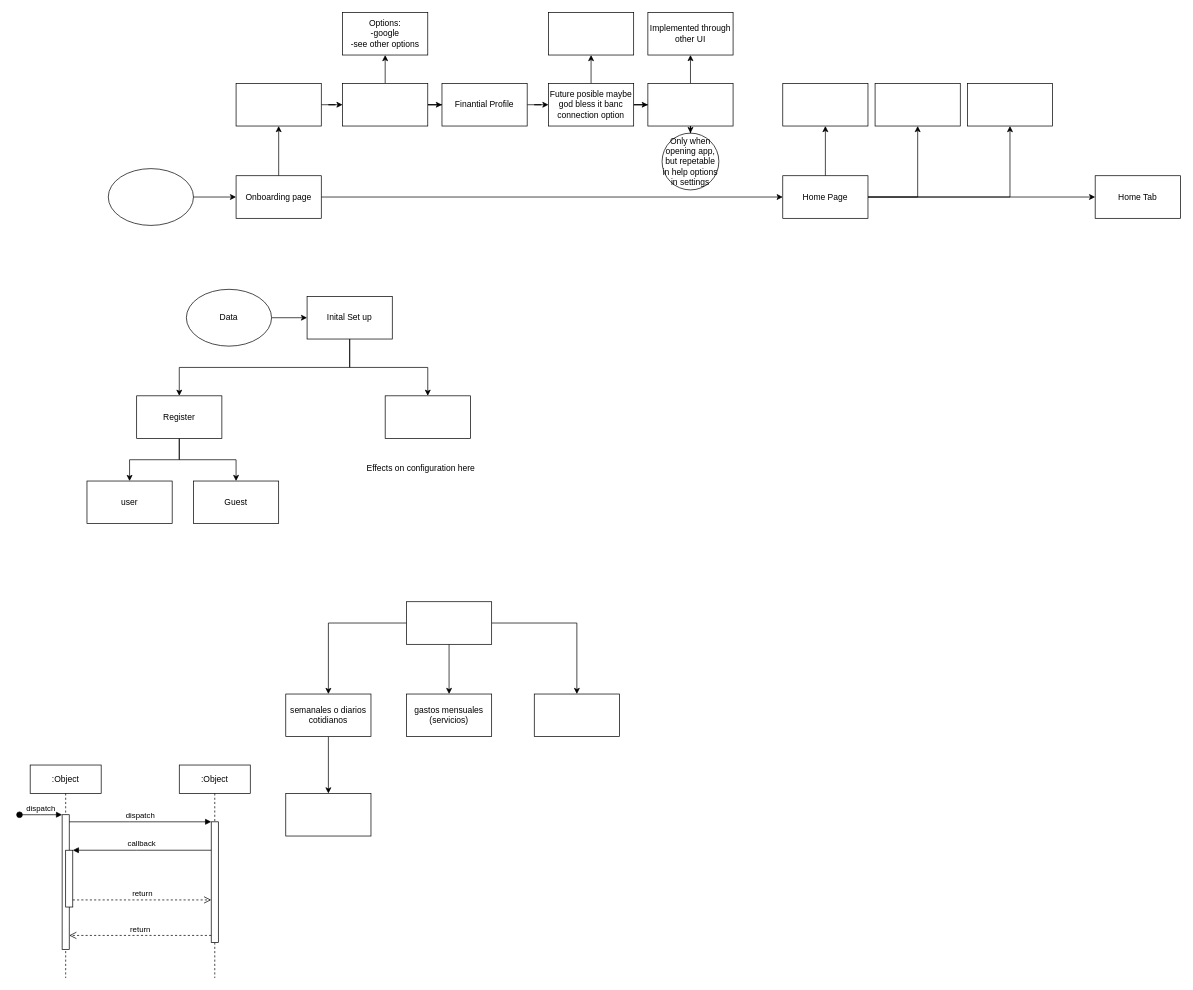
The diagram is 1193 pixels wide and 990 high, and some of its shapes have lost their labels. Each missing label, with the box of its shape:
App: (108, 168, 193, 225)
en el home (facil de acceder): (285, 793, 371, 836)
Gastos - forma de registrar: (406, 601, 492, 644)
Intro to app page: (235, 83, 321, 126)
Questions: (384, 395, 470, 438)
Register page(user or guest): (342, 83, 428, 126)
Review after everything else: (548, 12, 634, 55)
tutorial screen: (647, 83, 733, 126)
